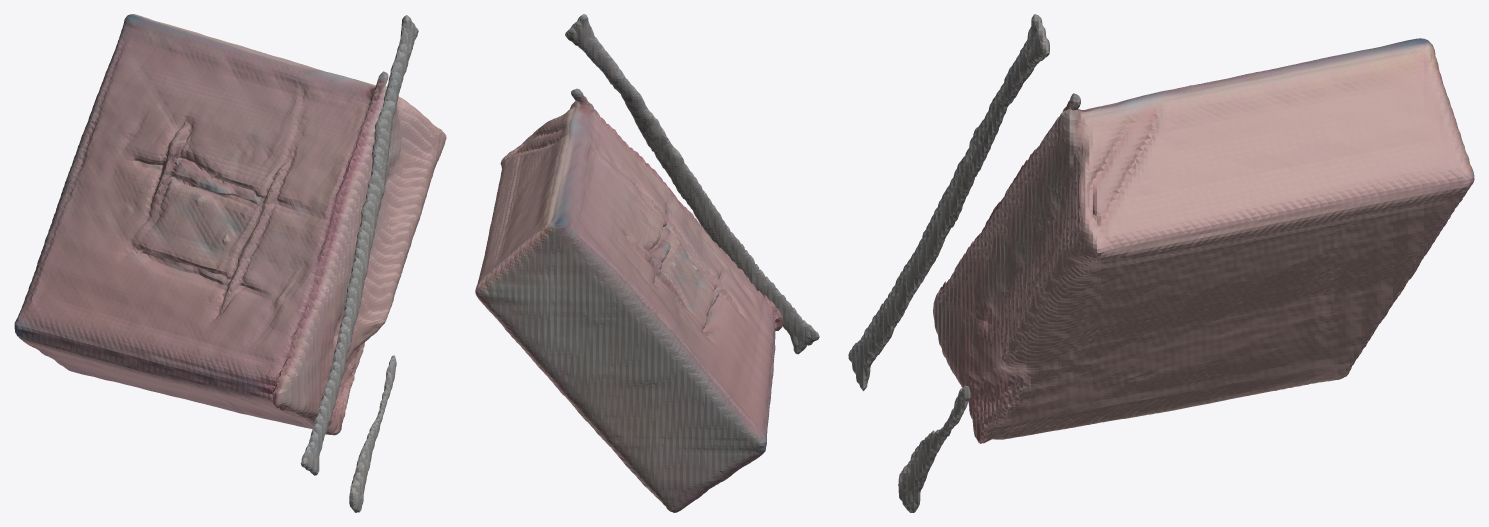
Rendered from TestPurse_ai.glb.
The picture shows the model from 3 angles, left to right: view 1: azimuth 30°, elevation 25°; view 2: azimuth 150°, elevation 25°; view 3: azimuth 270°, elevation 25°; orthographic projection. The views are drawn at different scales.
Parts seen in each view (by area): view 1: world; view 2: world; view 3: world.
Boxes of the visible parts, box(x1,y1,x2,y2) form: world: box(14, 14, 446, 512); world: box(475, 14, 819, 512); world: box(848, 14, 1474, 512).
Bounding box in the file's own units: 0.9194 × 1.08 × 1.1.
